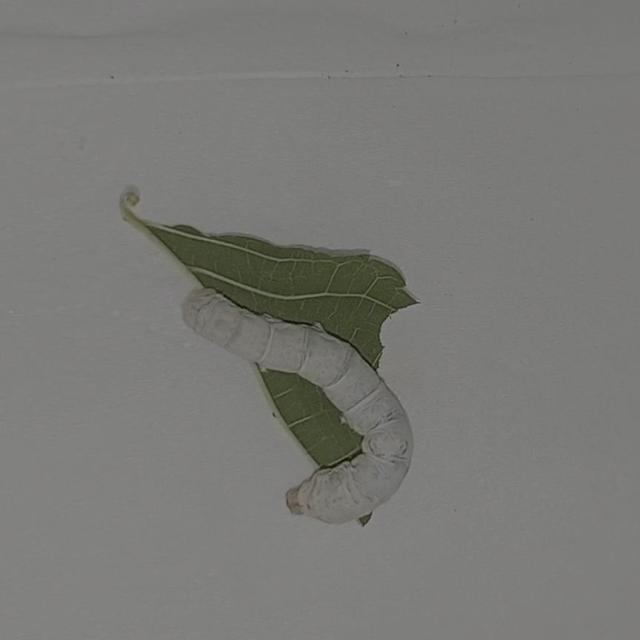Healthy: (164, 254, 452, 548)
